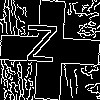Z: (25, 25, 58, 72)
